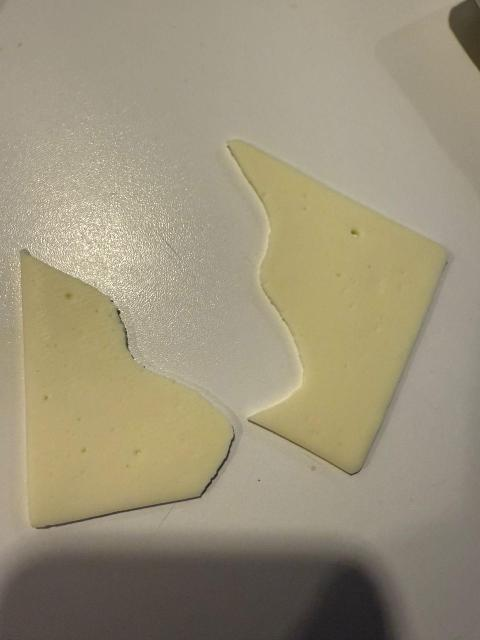Organik: (219, 133, 448, 471), (19, 235, 247, 533)
